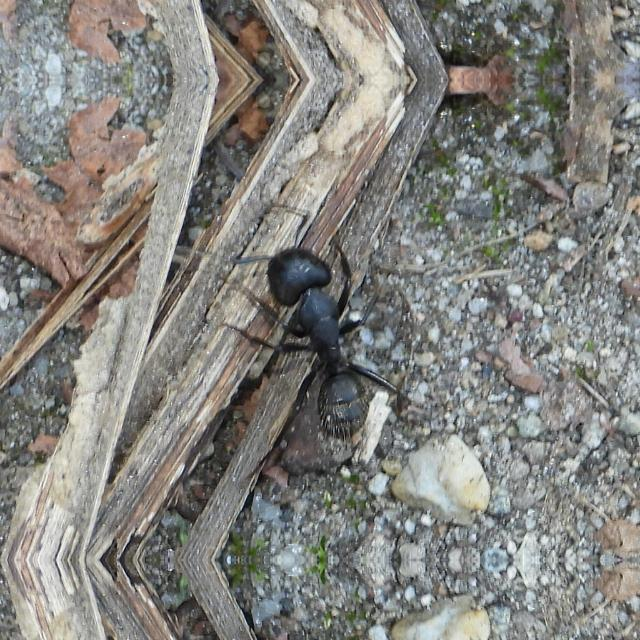Camponotus: (229, 203, 416, 465)
